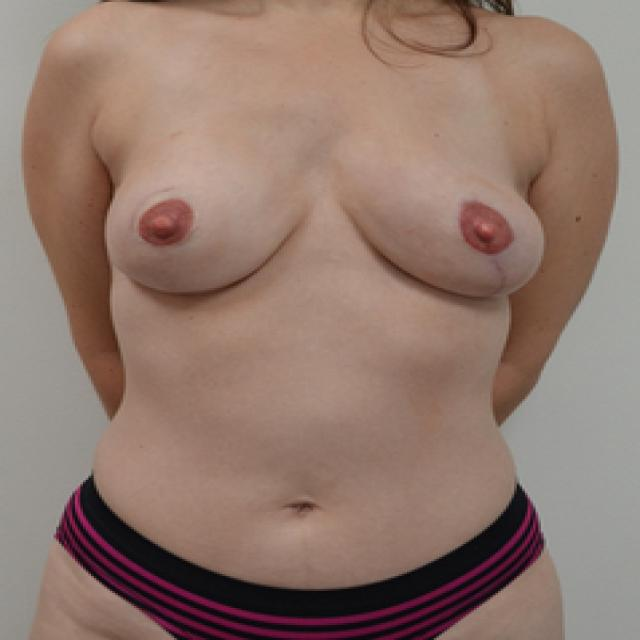Seno herido: (95, 144, 320, 310), (335, 144, 553, 310)
